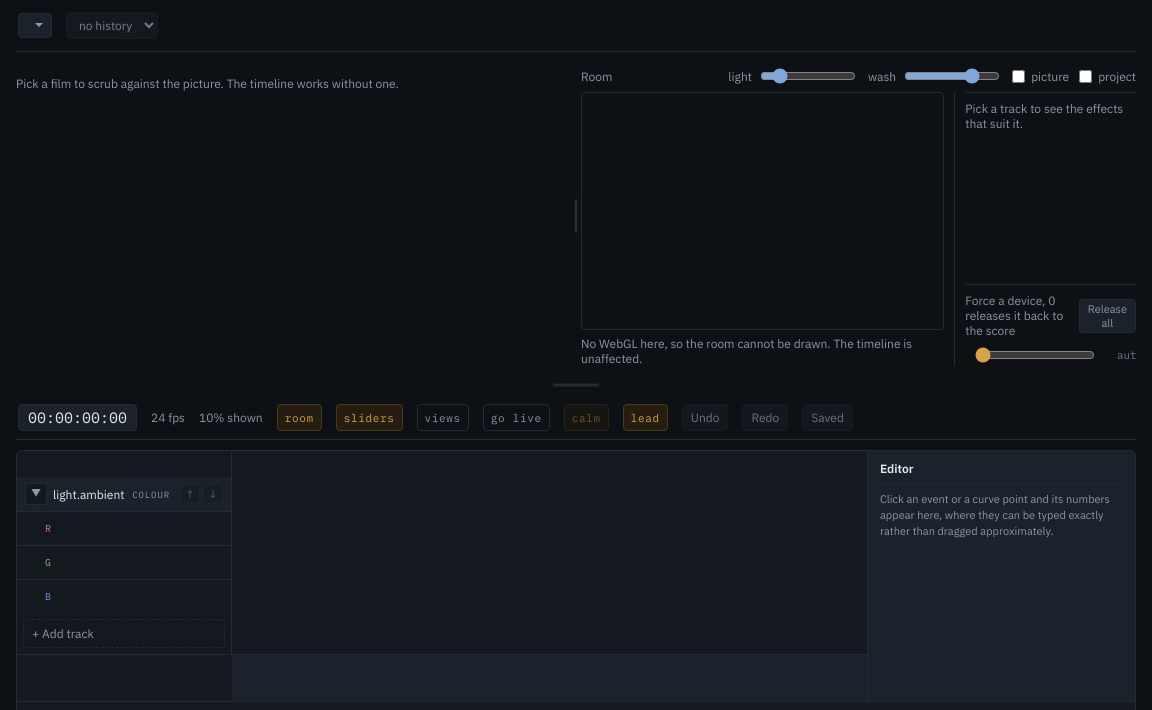
saved viewports › deletes one
Click the button "views". click: click(443, 418)
box: [416,404,469,431]
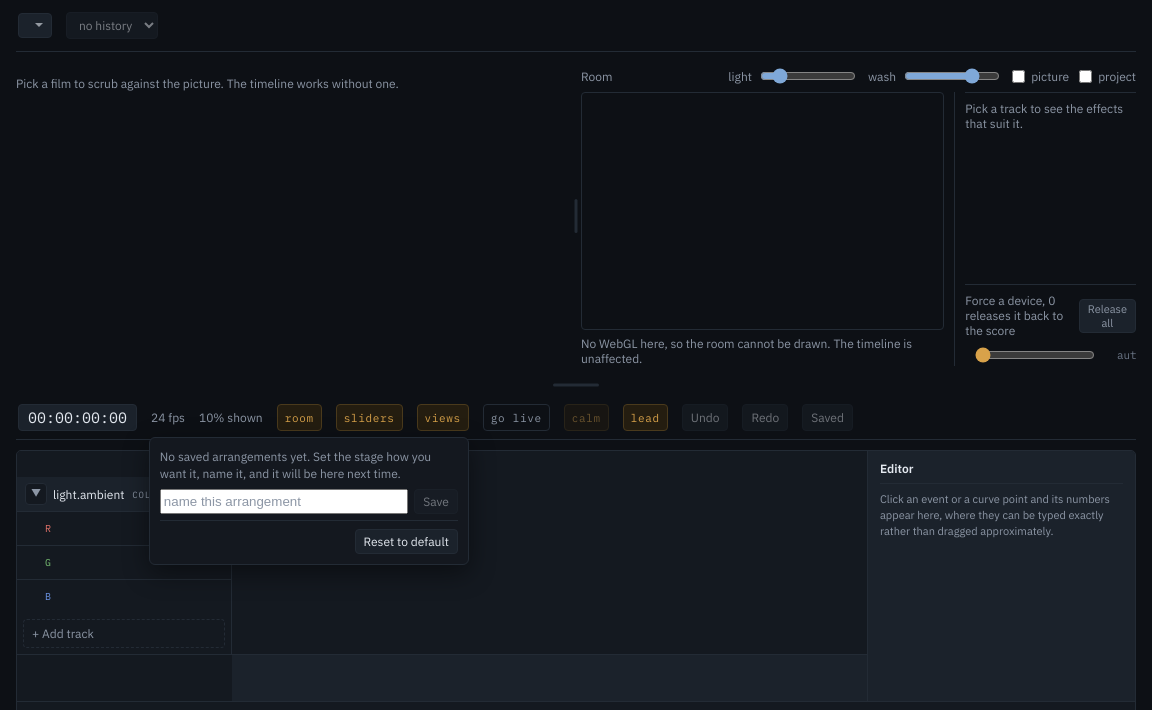
Type "gone" into the field labelled "name this arrangement". click: (284, 501)
box: [160,489,408,514]
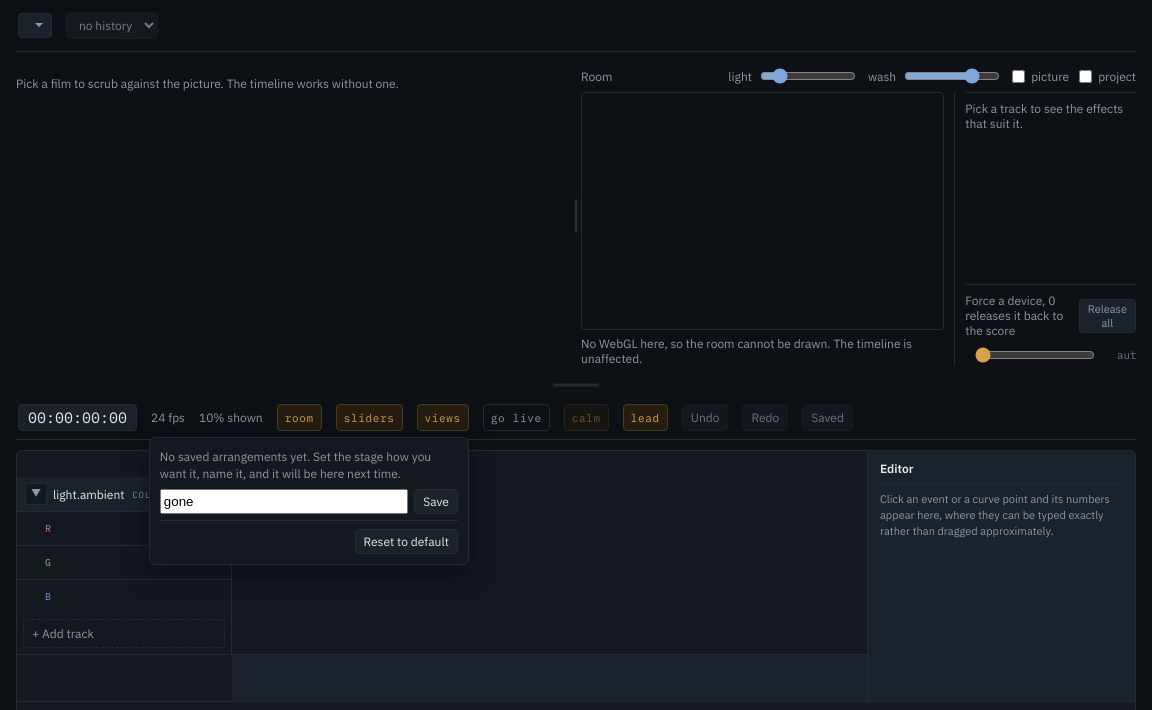
Click the button "Save". click: click(436, 501)
box: [414,489,458,514]
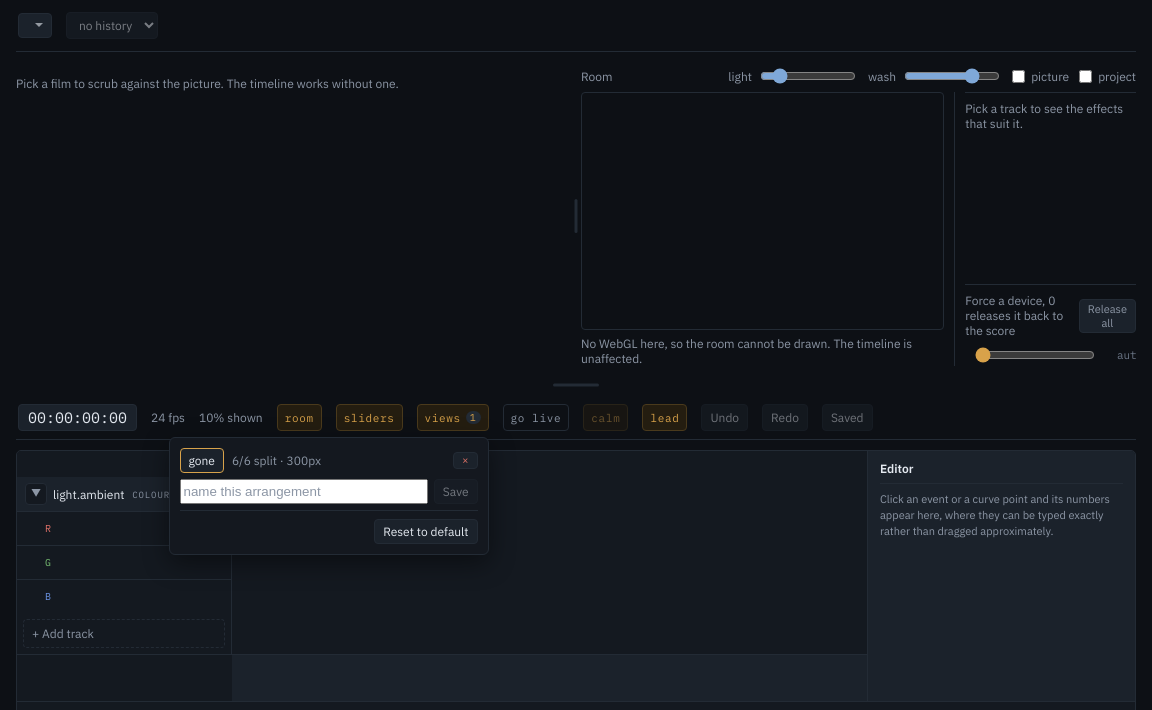
Click the button named "Delete gone". click: click(465, 460)
box: [453,452,478,469]
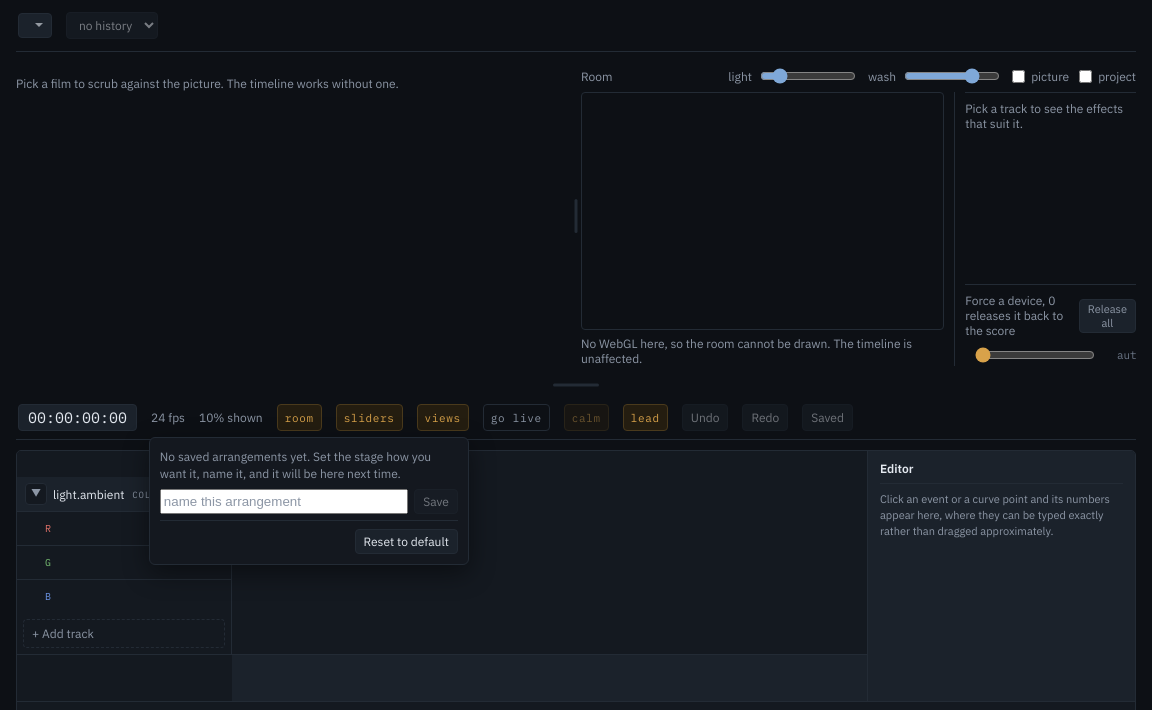
Expected: the button "gone" is gone
